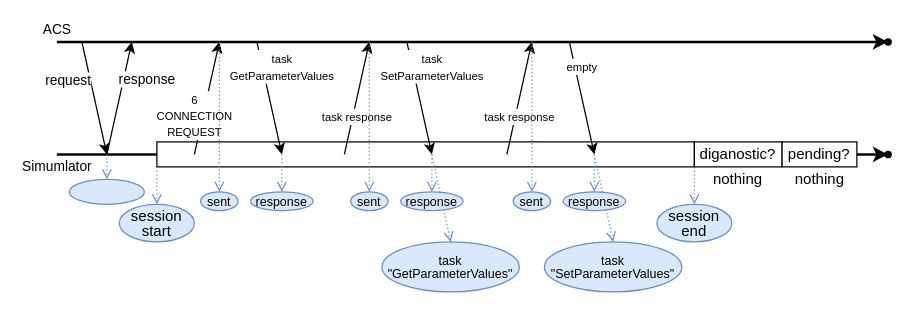
Image size: 923x314. Some labels were removed from this diagram. Here are the shapes that lost their labels. From the top down, the centre of each, then its label:
the point at 425,154: session
the point at 106,191: requested
